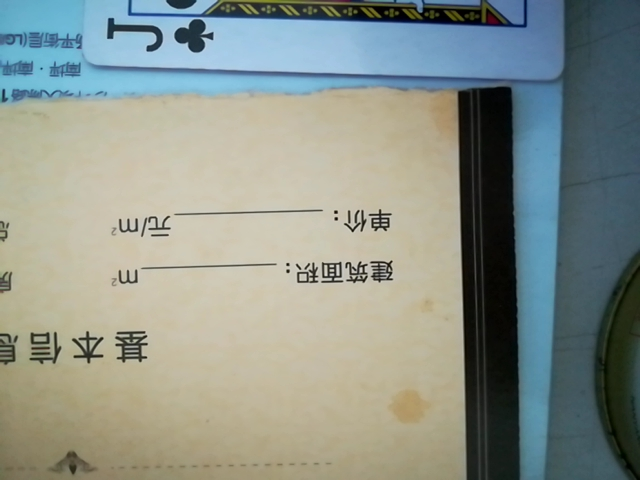mh j: (11, 0, 570, 83)
